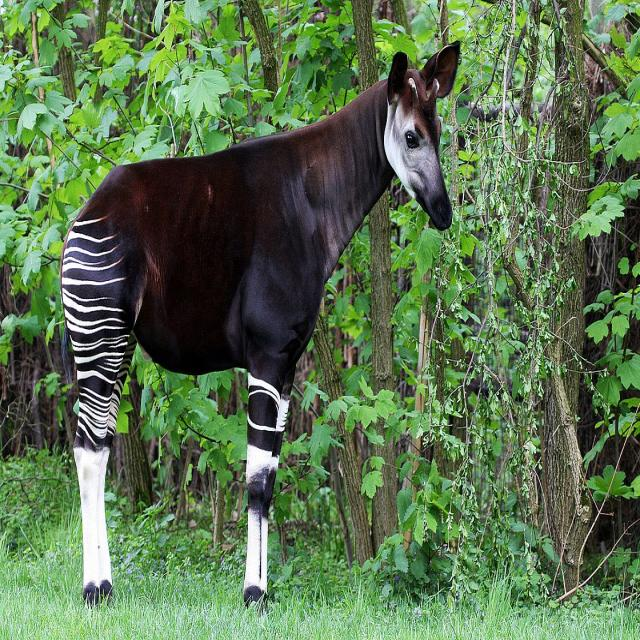Okapi: (55, 29, 465, 616)
